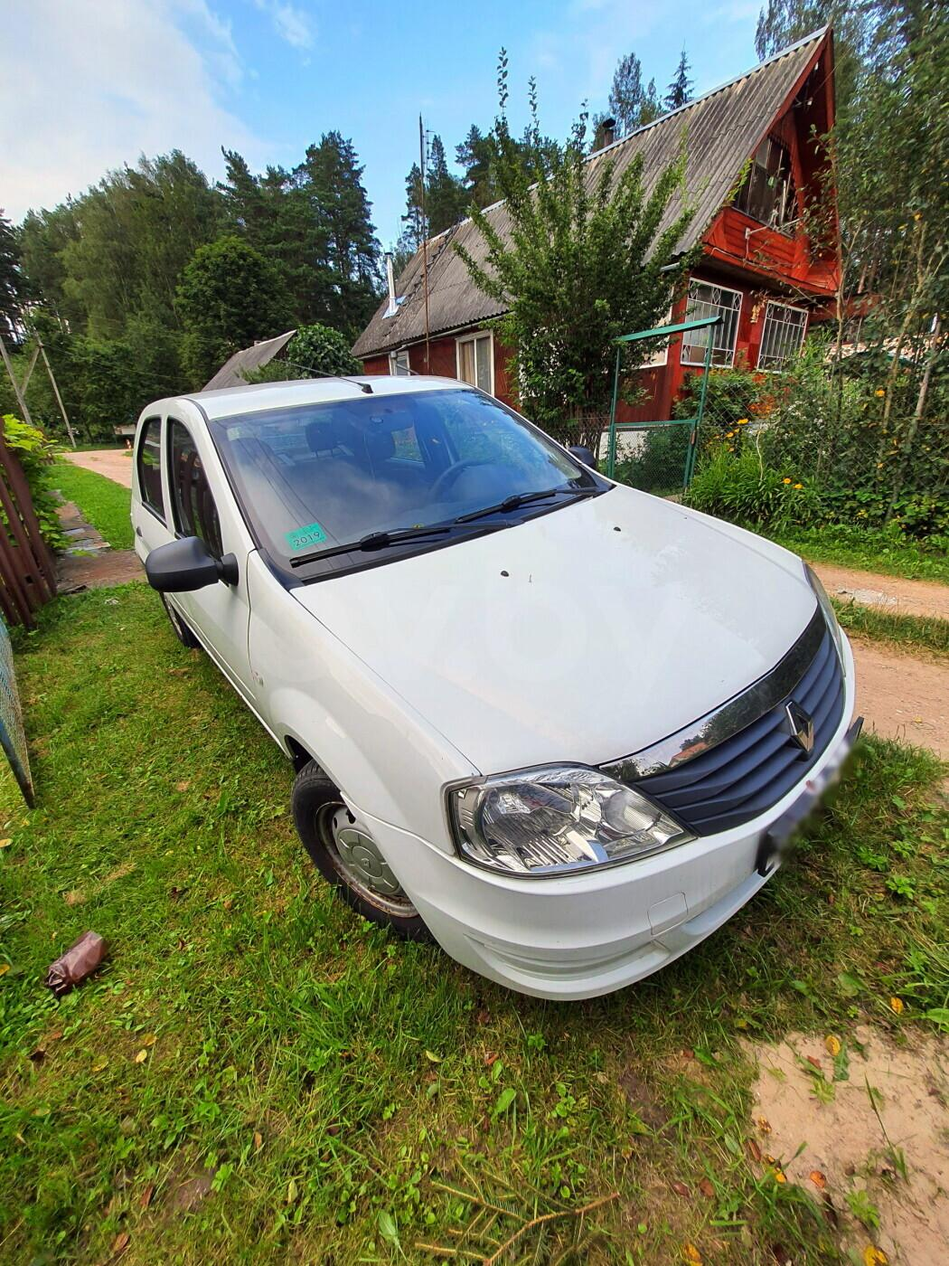Logan_2008-2015: (127, 373, 864, 1011)
